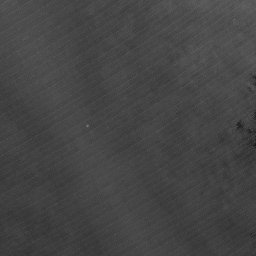Target: (84, 123, 90, 129)
